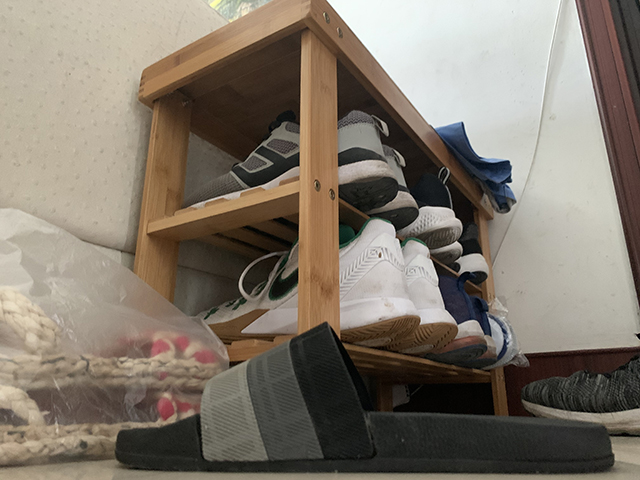slippers: (112, 318, 618, 477)
